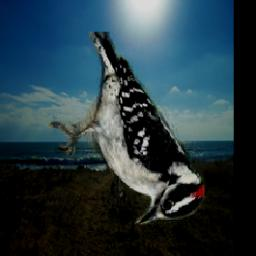Woodpecker: (47, 32, 208, 224)
